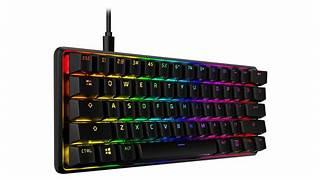keyboard: (42, 43, 274, 180)
